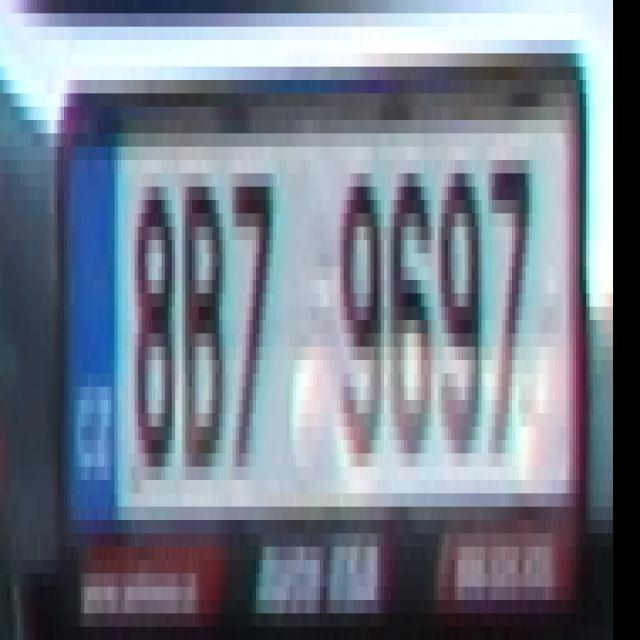6: (388, 173, 434, 480)
7: (485, 160, 529, 453), (229, 160, 273, 440)
8: (131, 186, 172, 466)
9: (336, 160, 381, 440), (444, 160, 486, 440)
B: (178, 174, 218, 454)
